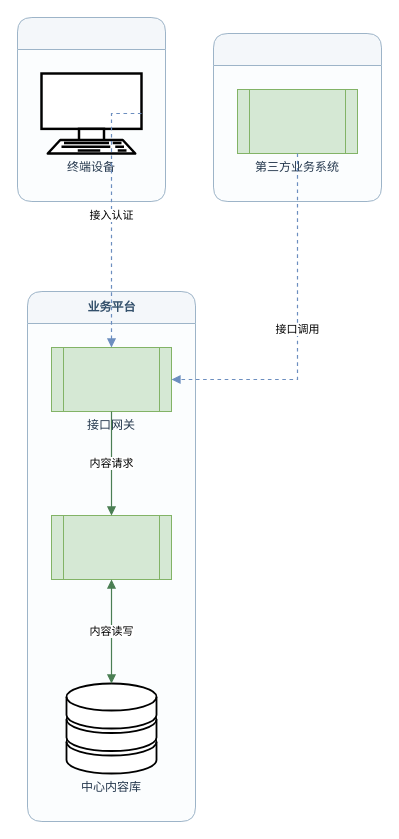
Image size: 399x839. Some labels were removed from this diagram. The shapes that lost their labels are listed below. From the top down, each one's box as (x1, y1, x2, y2) in pixels, then its label:
(16, 16, 166, 202): 终端侧
(212, 32, 382, 202): 外部系统
(50, 514, 172, 580): 内容服务
